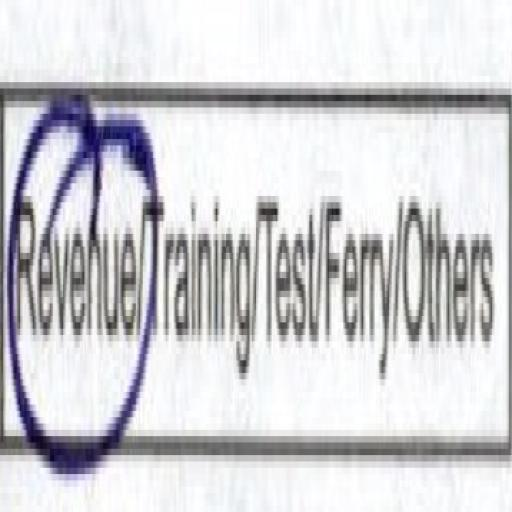check: (1, 31, 147, 512)
